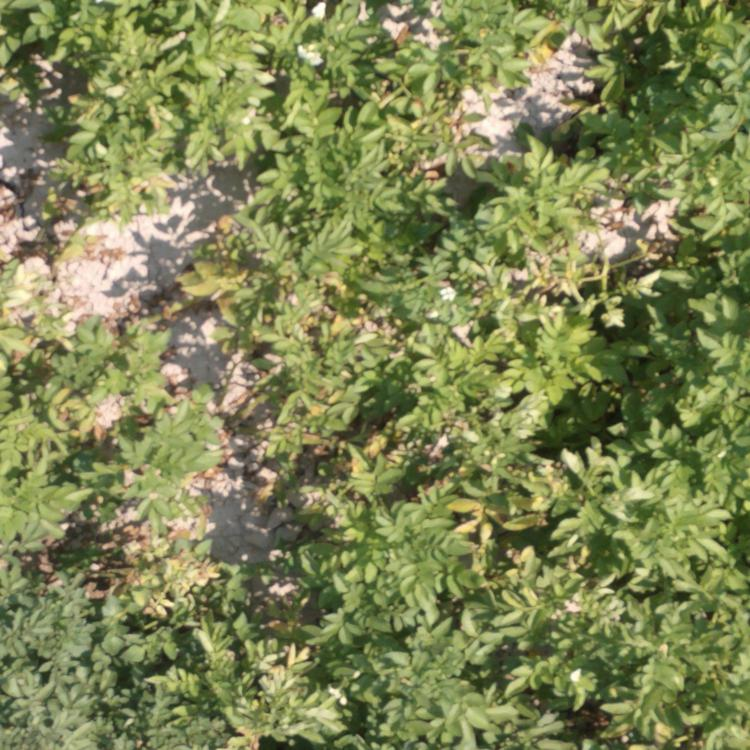healthy: (8, 514, 746, 750), (1, 1, 423, 206), (424, 256, 750, 505), (578, 7, 741, 253), (4, 270, 106, 506), (447, 116, 565, 252)
stressed: (125, 221, 411, 496), (434, 1, 561, 85)
